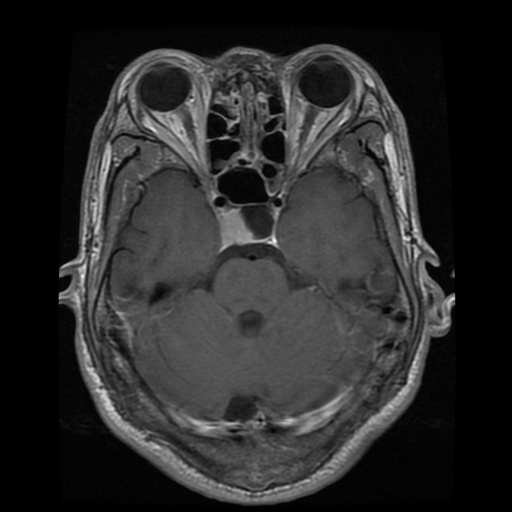pituitary: (216, 207, 250, 249)
